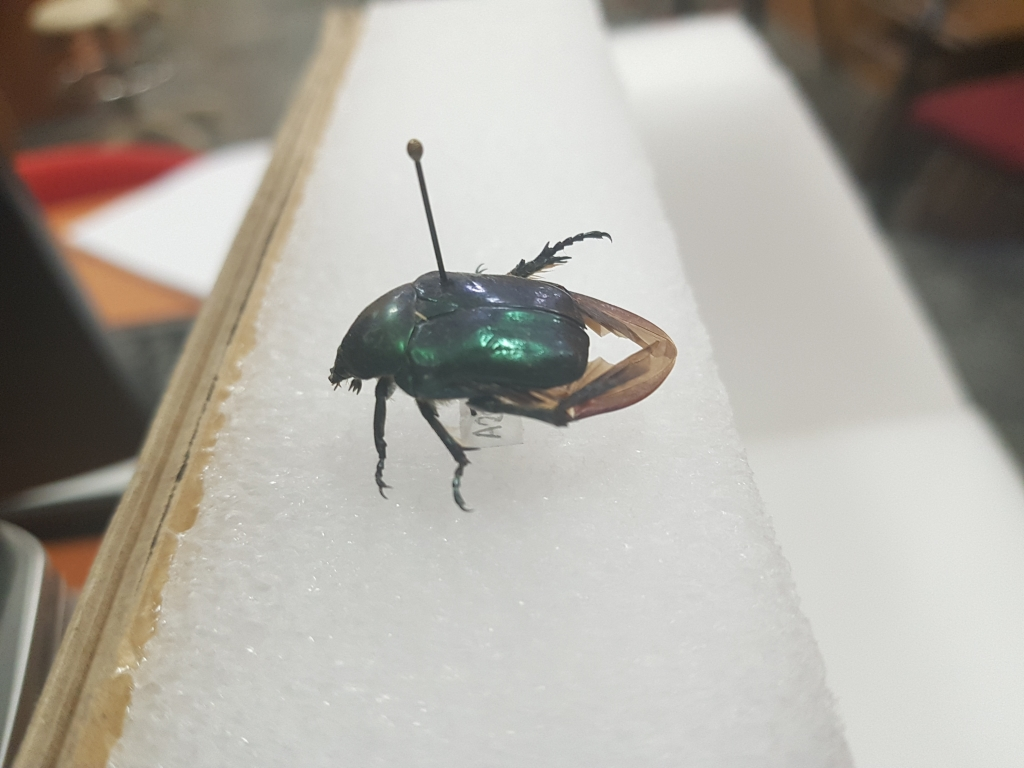Protaetia_angustata_angustata: (326, 214, 687, 511)
